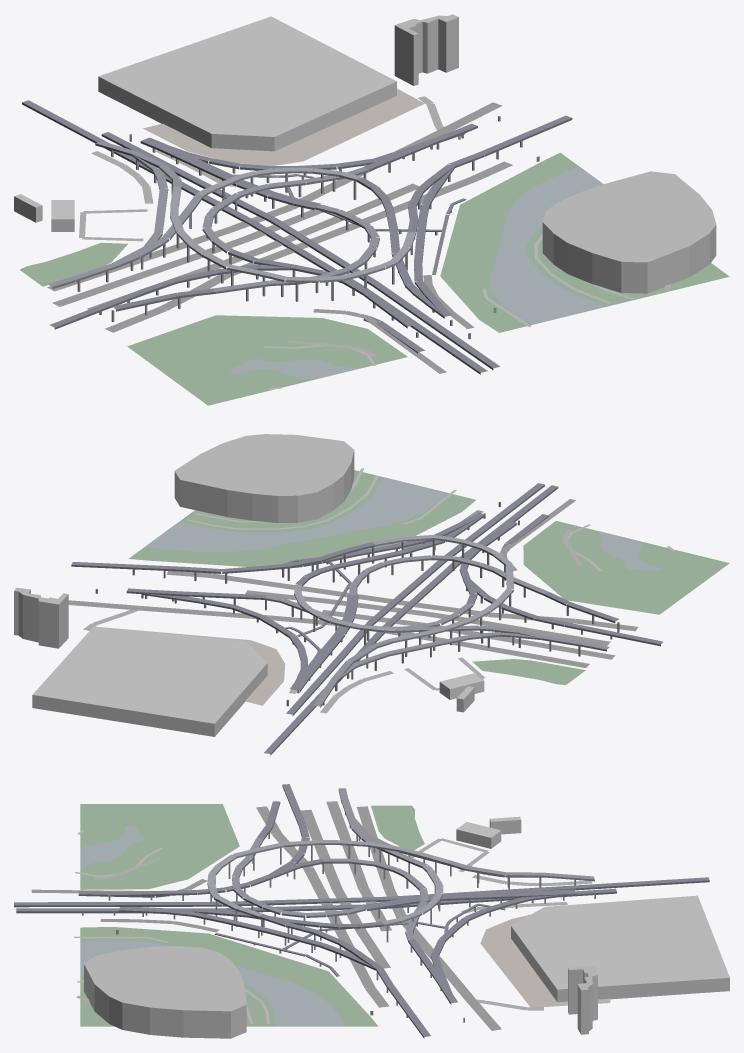
3 renders of one model, top to bottom at view 1: azimuth 30°, elevation 25°; view 2: azimuth 150°, elevation 25°; view 3: azimuth 270°, elevation 25°, orthographic. The views are drawn at different scales.
Size of the model in its own units: 574 by 47.63 by 675.
